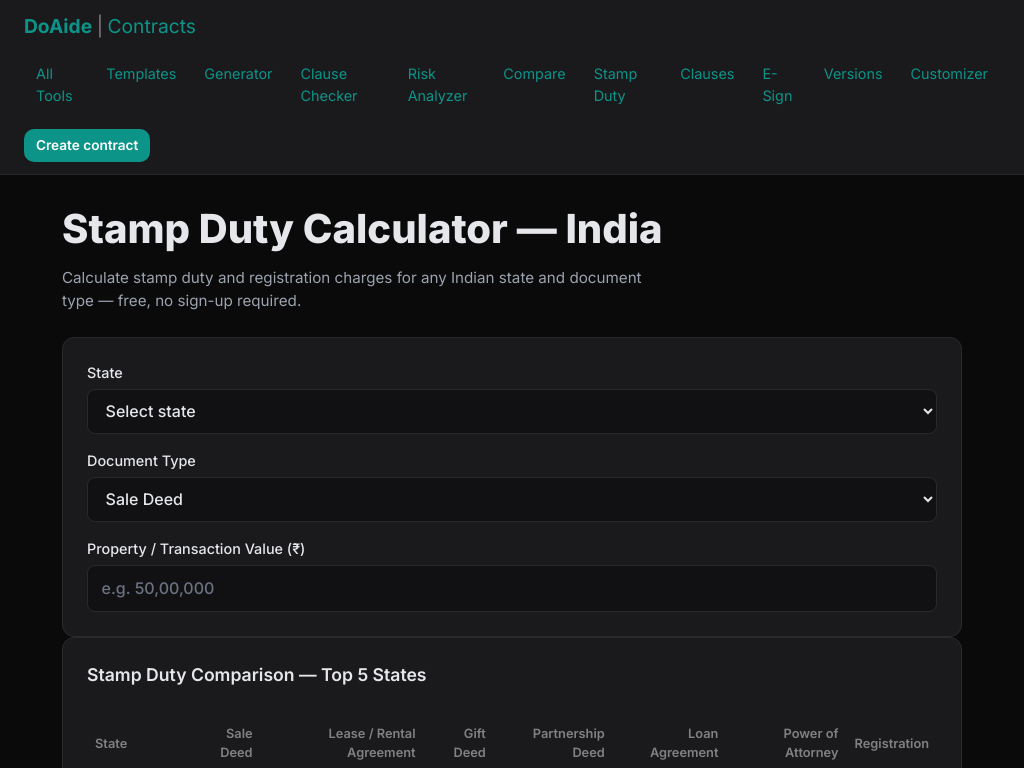
StampDutyCalculatorPage › calculates stamp duty when inputs are filled
The image size is (1024, 768).
Select "Maharashtra" in the dropdown labelled "State" at (512, 411), box [87, 389, 937, 434]
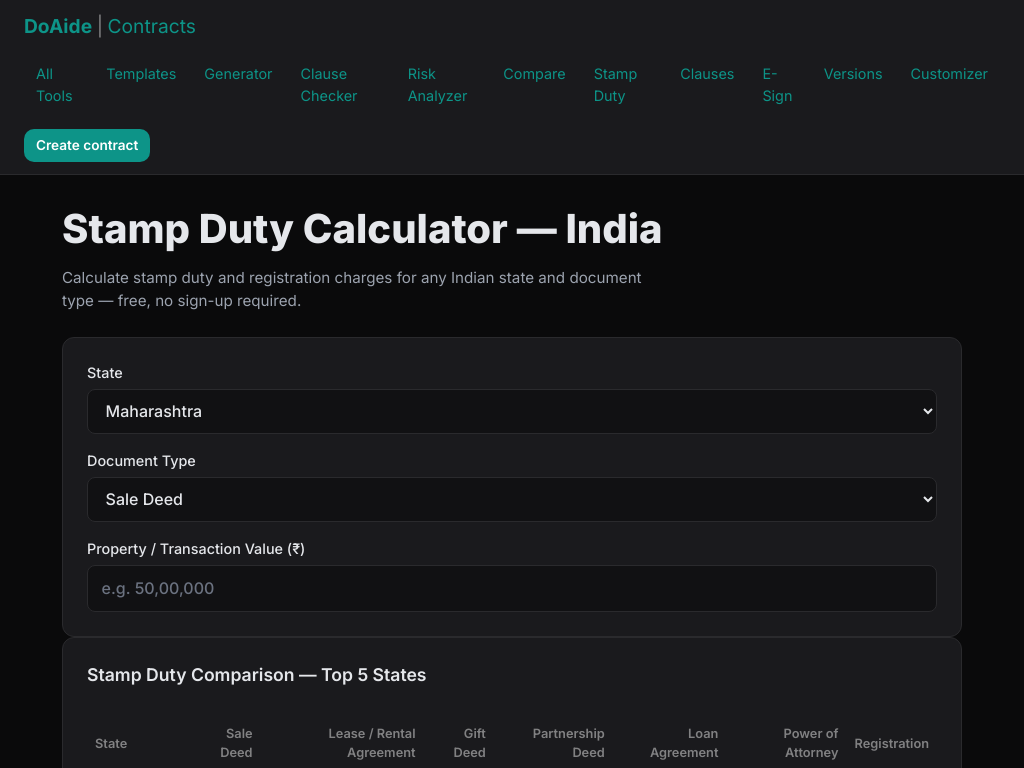
Type "10000000" into the field with placeholder "e.g. 50,00,000" at (512, 588), box [87, 565, 937, 612]
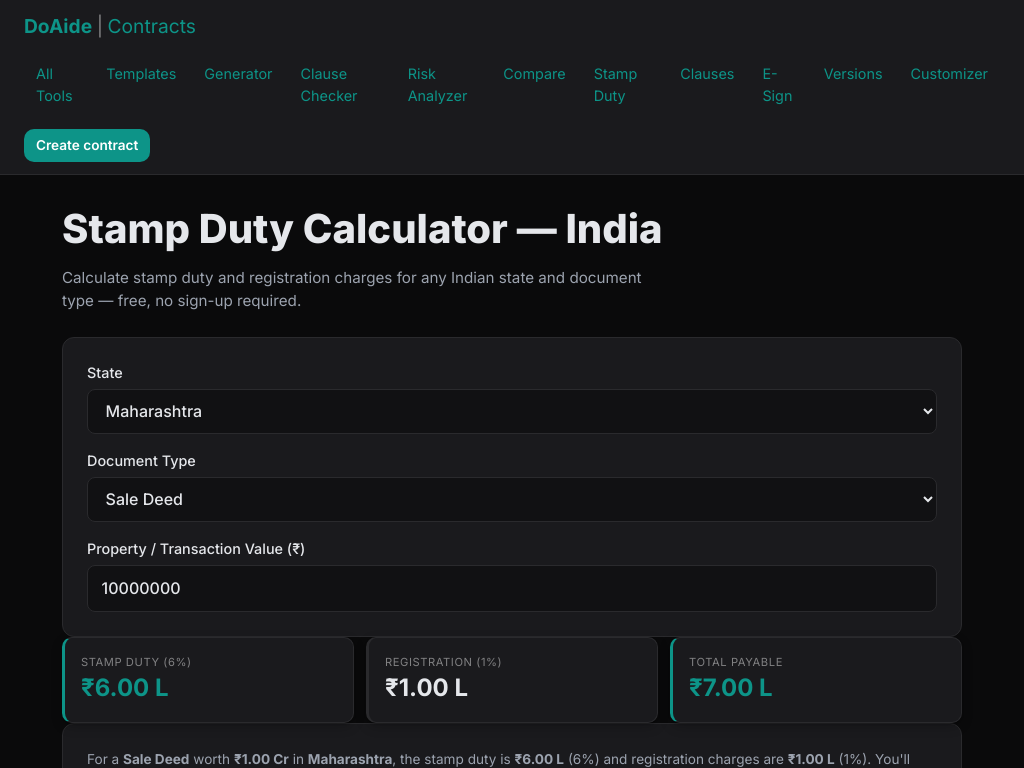
Expected: the text "Stamp Duty (6%)" is shown, [81, 654, 192, 668]
Expected: the text "Total Payable" is shown, [689, 654, 783, 668]
